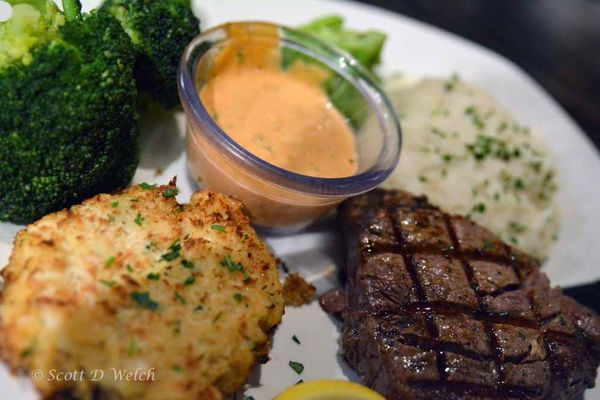curry: (0, 1, 201, 225), (0, 0, 138, 225)
soup: (0, 181, 304, 394)
sushi: (176, 20, 403, 233)
